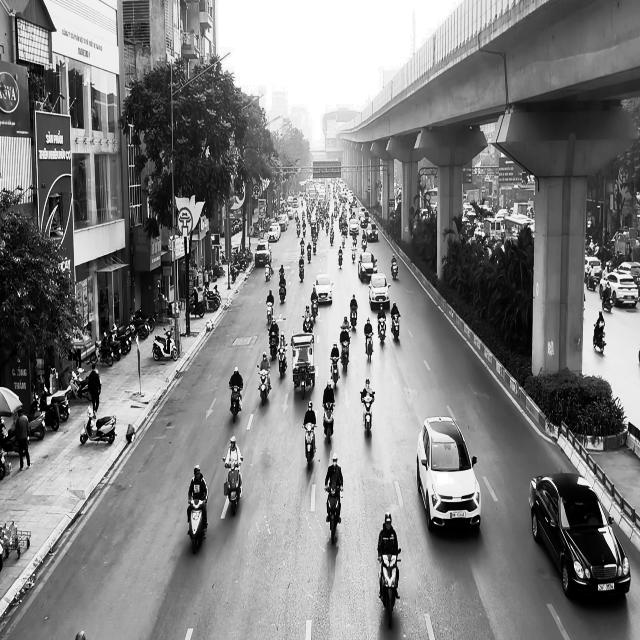car: (528, 472, 631, 600), (416, 416, 481, 532), (368, 273, 391, 309), (312, 272, 333, 304), (358, 251, 377, 282)
motorbike: (378, 548, 401, 628), (80, 404, 116, 445), (222, 455, 243, 515), (187, 496, 208, 554), (324, 484, 343, 544), (152, 329, 178, 360), (302, 422, 317, 470), (360, 390, 374, 435), (256, 364, 270, 406), (322, 402, 335, 443), (229, 382, 242, 422), (593, 321, 606, 354), (277, 343, 287, 378), (330, 356, 340, 389), (340, 340, 350, 372), (364, 331, 374, 362), (268, 330, 278, 359), (377, 315, 386, 344), (302, 312, 314, 333), (391, 314, 400, 341), (278, 275, 286, 303), (266, 302, 274, 325), (350, 306, 358, 328), (391, 255, 398, 280), (338, 247, 343, 269)
